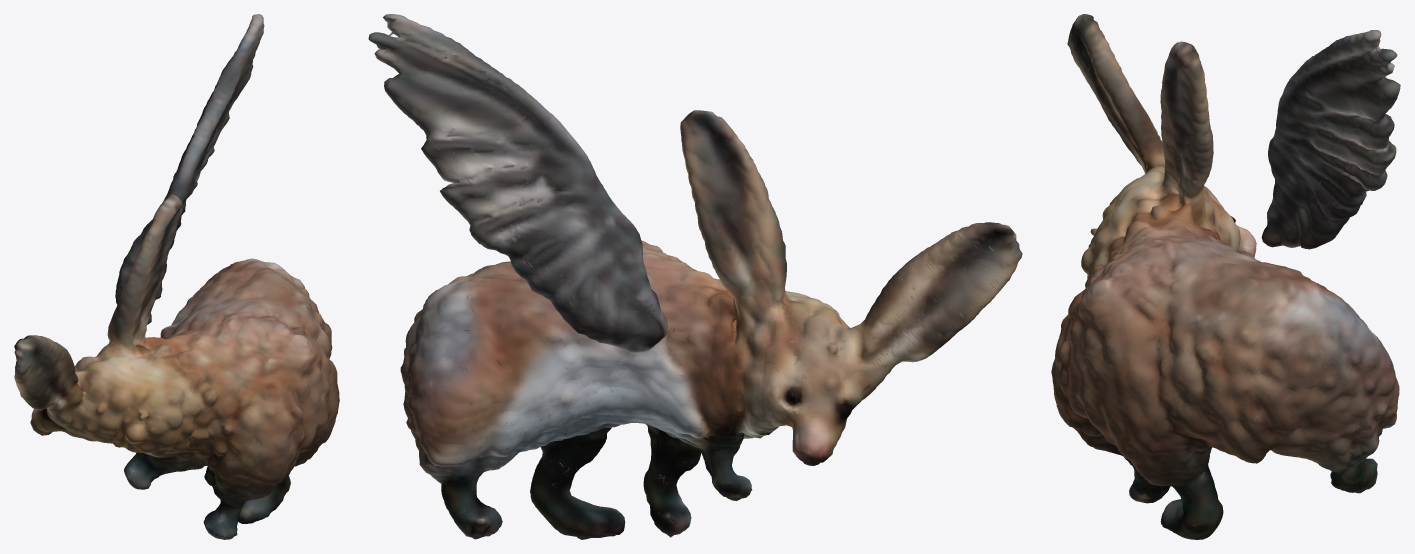
Rendered from volpertingerin_blender.glb.
3 views of the same model, side by side, from view 1: azimuth 30°, elevation 25°; view 2: azimuth 150°, elevation 25°; view 3: azimuth 270°, elevation 25° (orthographic). The views are drawn at different scales.
Visible parts, largest first — view 1: volpertingerin; view 2: volpertingerin; view 3: volpertingerin.
Part boxes in pixels (box(x1,y1,x2,y2)): volpertingerin: box(14, 14, 339, 539); volpertingerin: box(368, 14, 1022, 539); volpertingerin: box(1051, 14, 1400, 539).
Size of the model in its own units: 1.72 by 1.88 by 1.08.
Materials: 1 (1 with a texture image).
